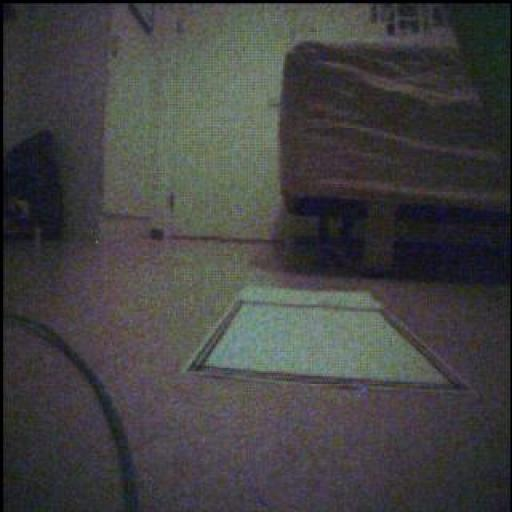pad: (185, 287, 467, 390)
